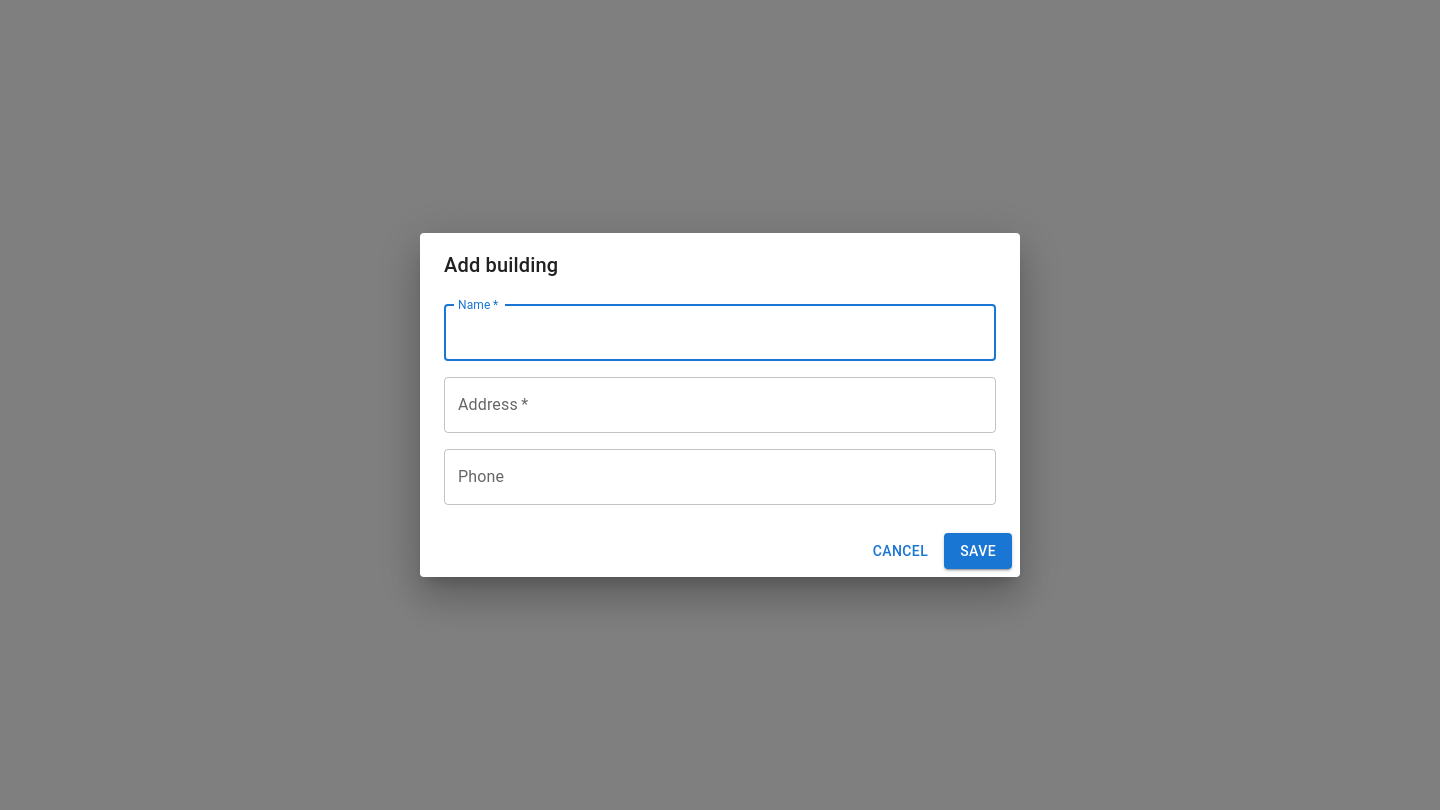
Scenario: FormDialog › shows 400/409 field details from the API under the matching field
This screenshot has width=1440, height=810.
Type "HQ Tower" into the field labelled "Name *" at (720, 333), box left=444, top=305, right=996, bottom=361
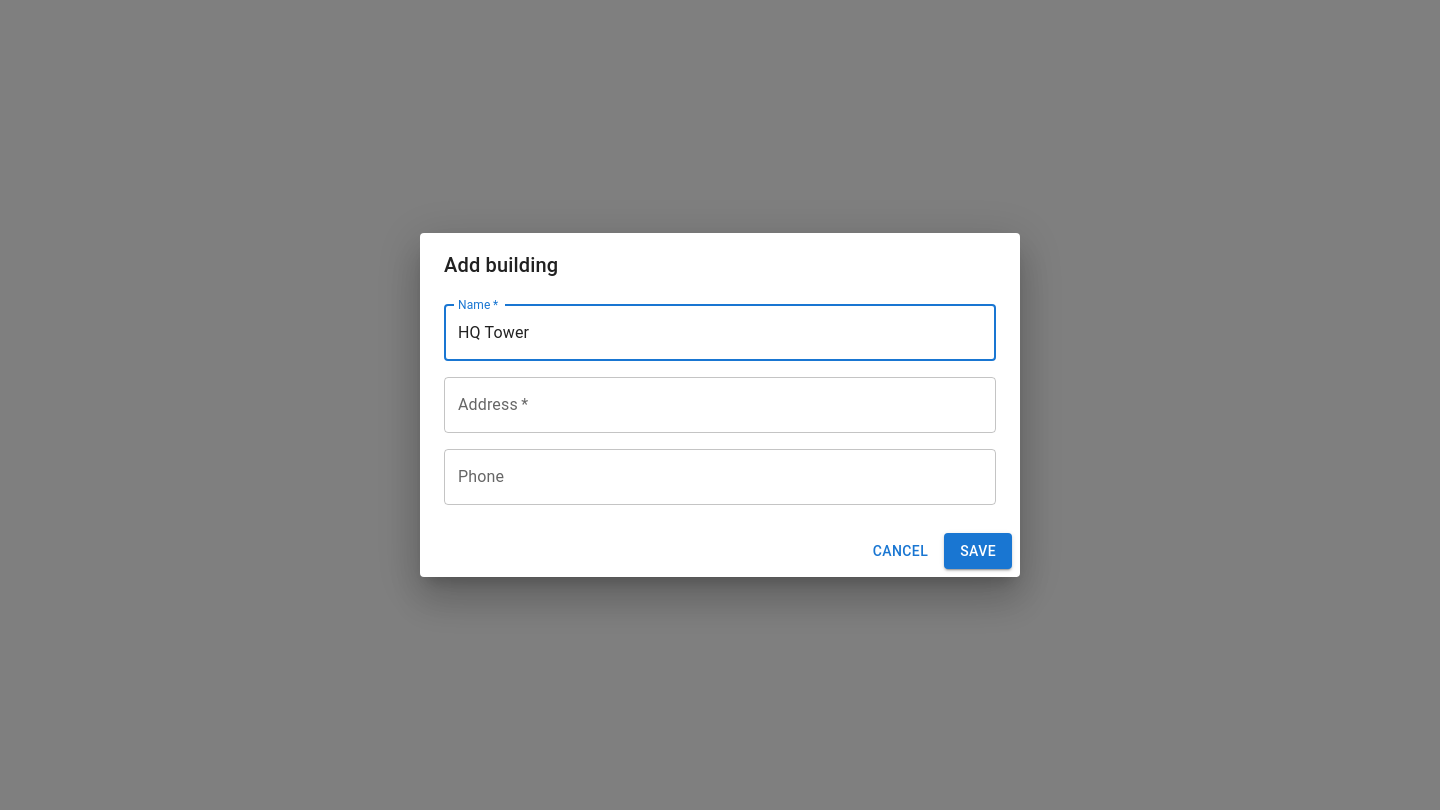
Type "x" into the field labelled "Address *" at (720, 405), box left=444, top=377, right=996, bottom=433
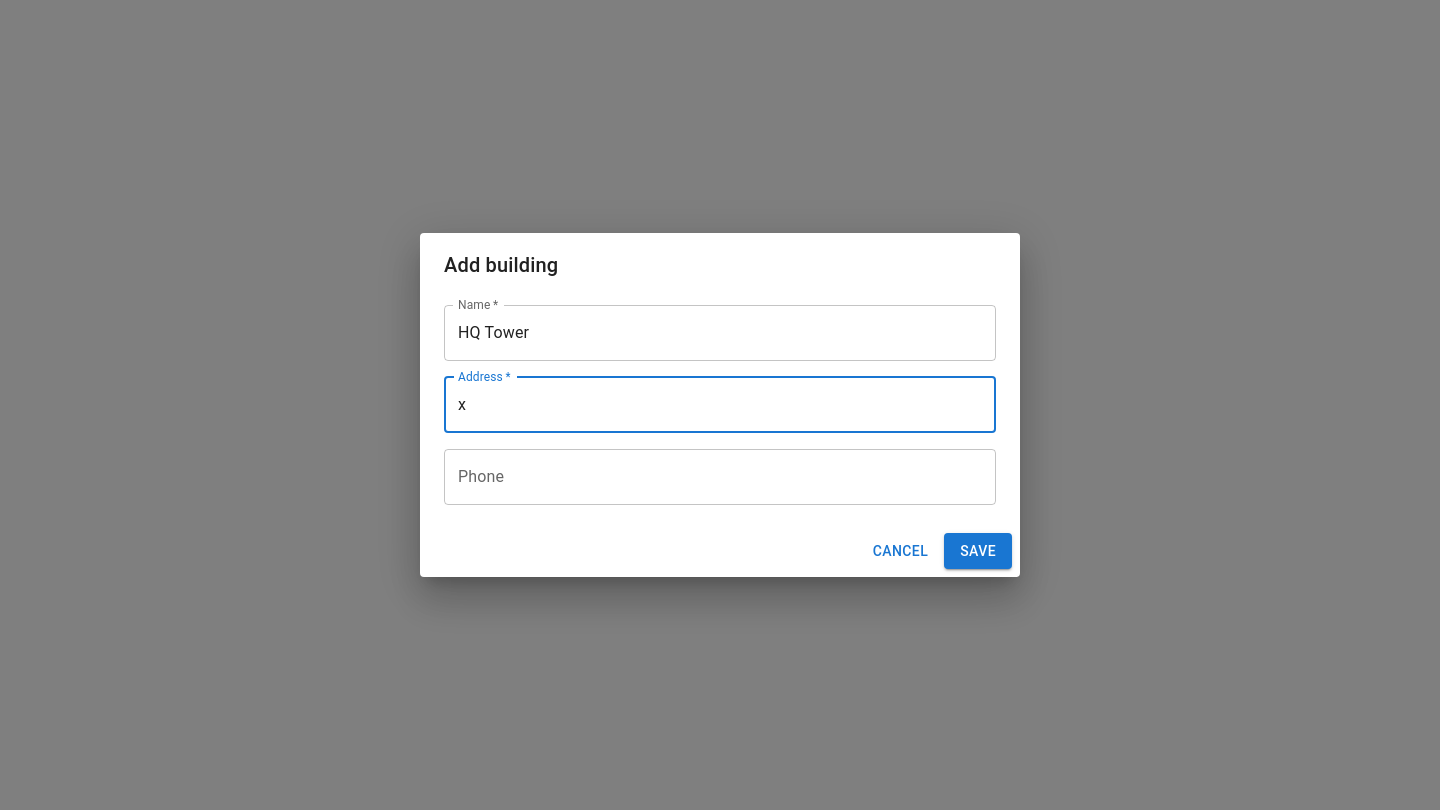
Click the button "Save" at (978, 551), box left=944, top=533, right=1012, bottom=569
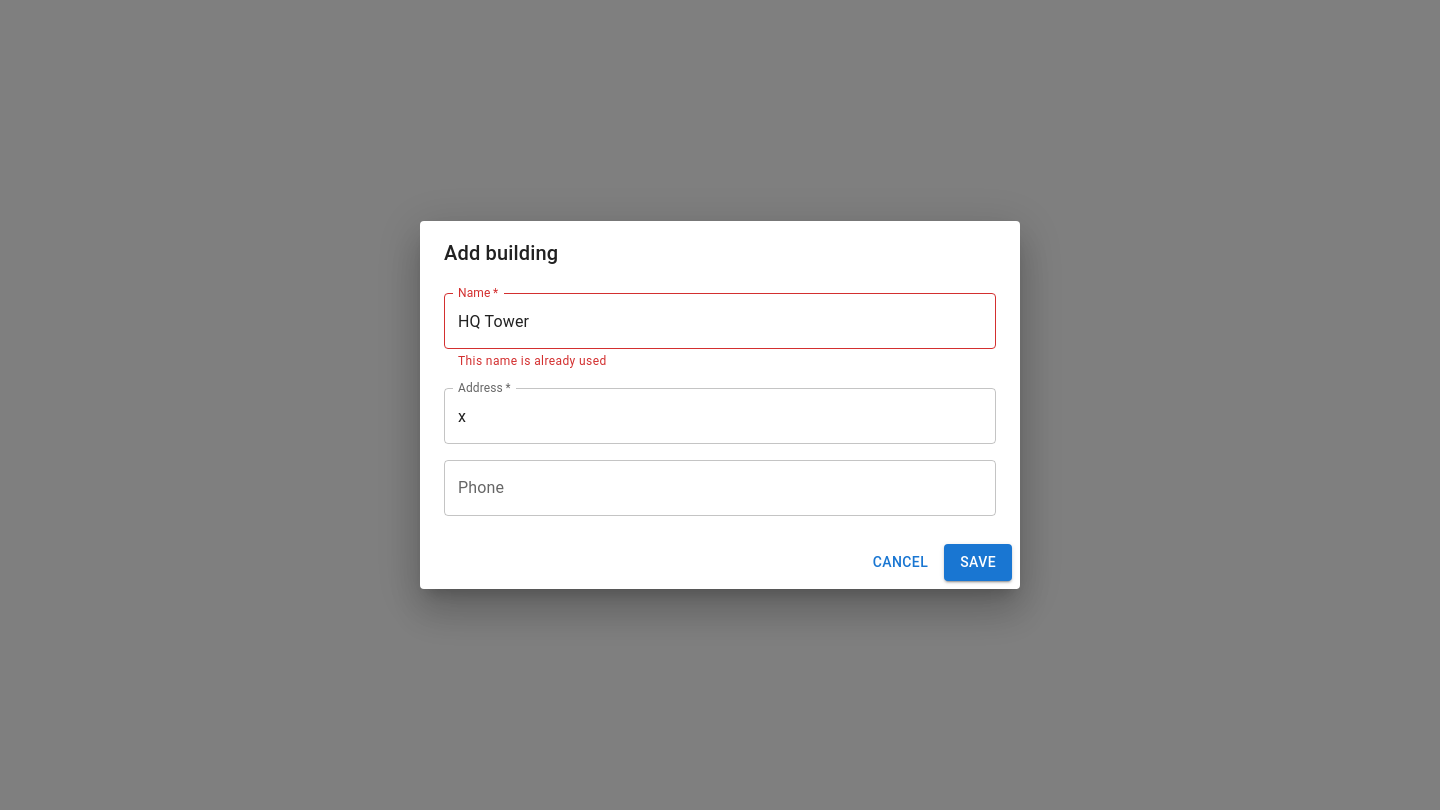
Expected: the text "This name is already used" is shown, left=458, top=354, right=607, bottom=368
